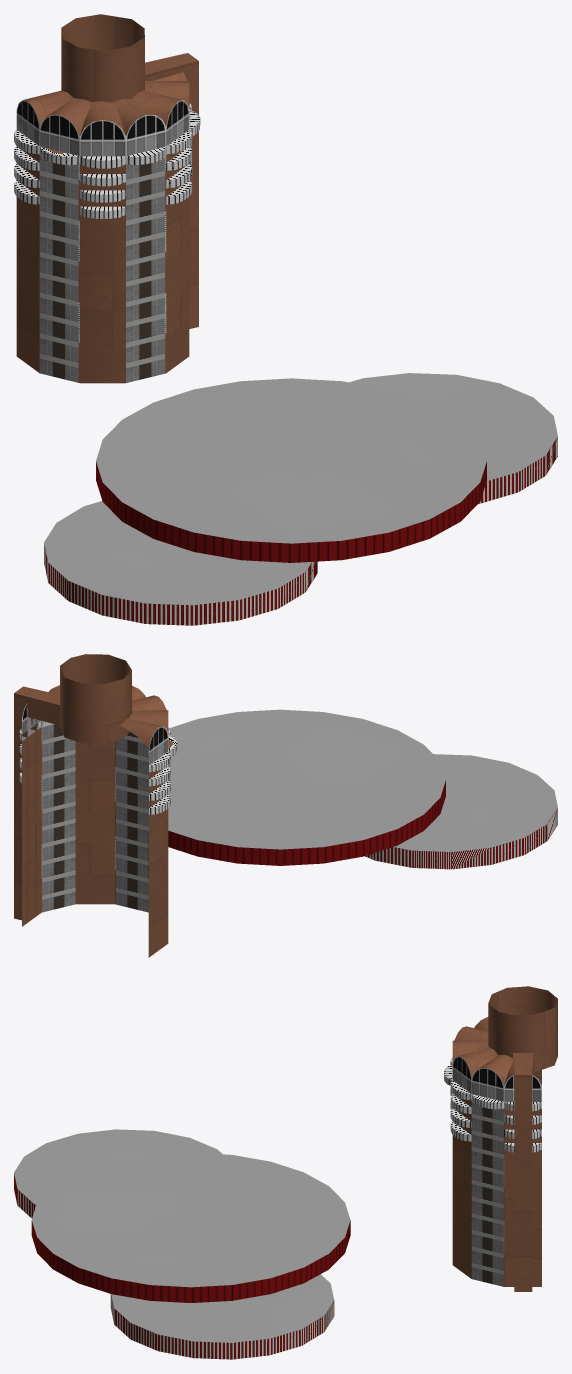
File: sands_buildings.dae
3 views of the same model, one above another, from view 1: azimuth 30°, elevation 25°; view 2: azimuth 150°, elevation 25°; view 3: azimuth 270°, elevation 25° (orthographic). The views are drawn at different scales.
Parts seen in each view (by area): view 1: sands buildings; view 2: sands buildings; view 3: sands buildings.
Boxes of the visible parts, x1,y1,x2,y2 form: sands buildings: (14,14,557,625); sands buildings: (14,654,557,957); sands buildings: (14,986,557,1359).
Bounding box in the file's own units: 8.71 × 9.37 × 5.63.
Materials: 1 (1 with a texture image).
